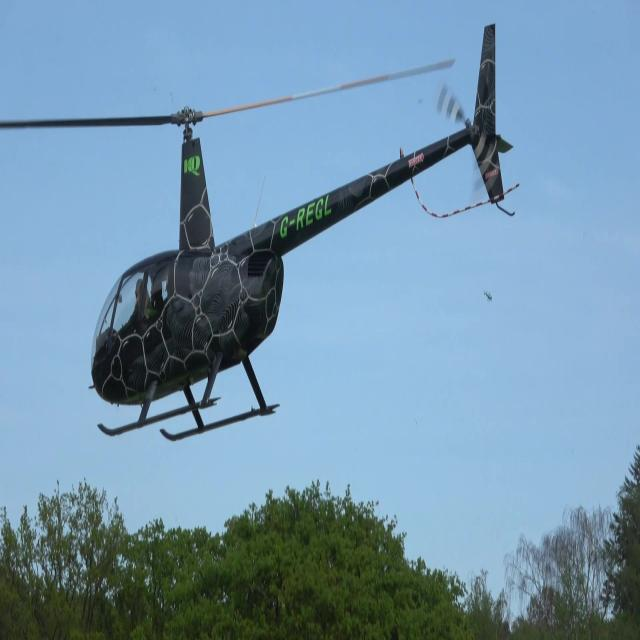CIV_HELO: (88, 24, 514, 447)
